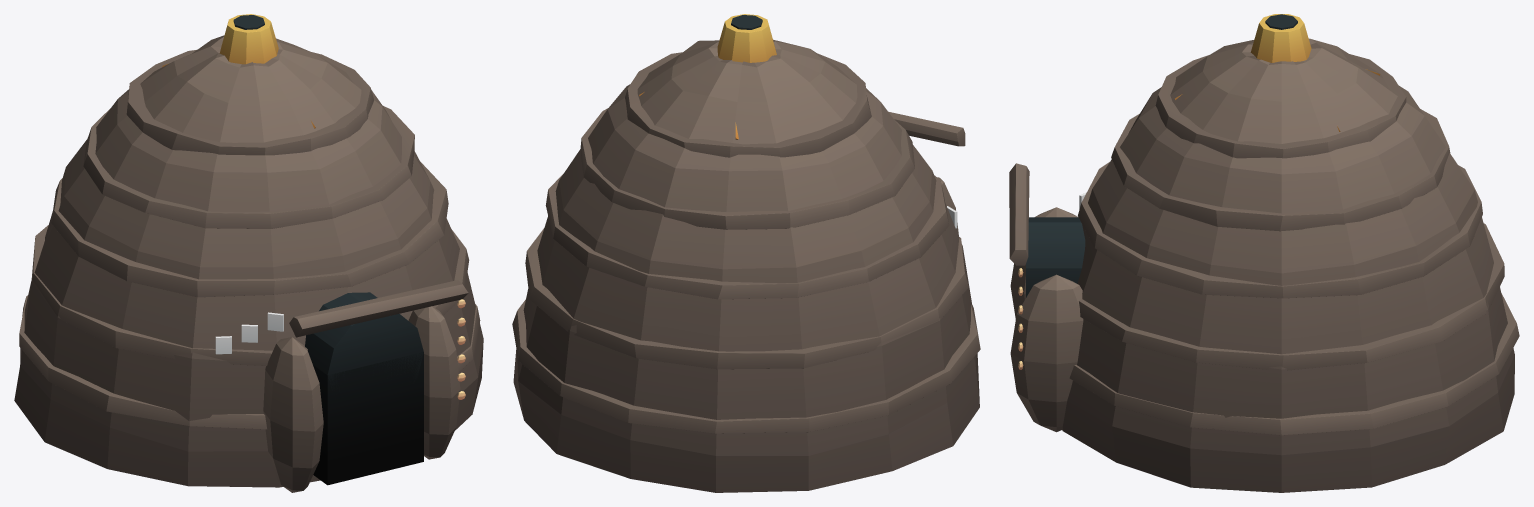
File: silt_mound.glb
3 renders of one model, left to right at view 1: azimuth 30°, elevation 25°; view 2: azimuth 150°, elevation 25°; view 3: azimuth 270°, elevation 25°, orthographic.
Parts seen in each view (by area): view 1: silt_mound; view 2: silt_mound; view 3: silt_mound.
Boxes of the visible parts, x1,y1,x2,y2 form: silt_mound: [14, 14, 483, 492]; silt_mound: [512, 14, 980, 492]; silt_mound: [1009, 14, 1519, 492].
Bounding box in the file's own units: 4.65 × 4.07 × 4.99.
Materials: 1 (1 with a texture image).
